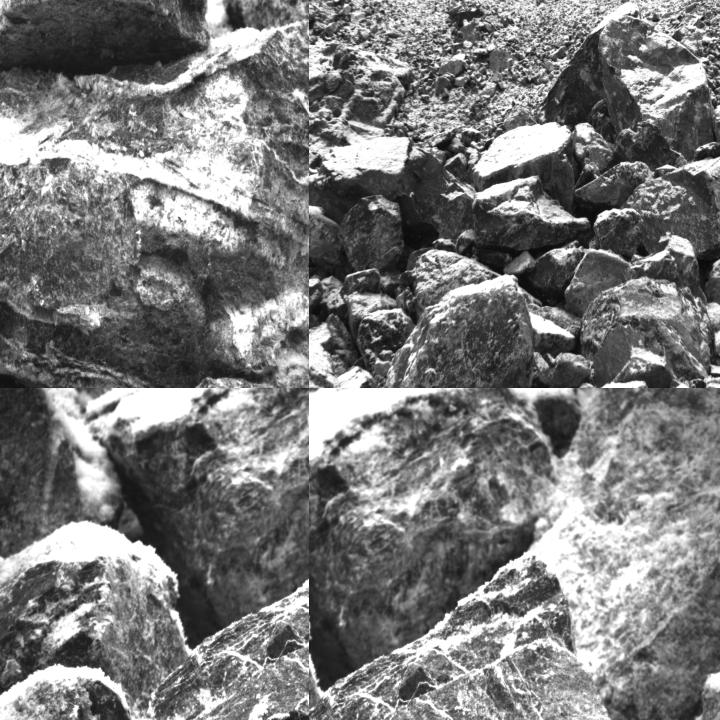stone: (0, 17, 308, 387), (309, 388, 581, 671), (309, 551, 656, 719), (80, 388, 308, 629), (195, 0, 308, 355), (0, 519, 186, 719), (147, 509, 308, 719), (376, 276, 537, 387), (309, 135, 472, 242), (598, 17, 716, 164), (577, 276, 714, 374), (472, 178, 591, 253), (473, 118, 574, 203), (636, 157, 719, 258), (535, 18, 612, 126), (341, 196, 404, 270), (564, 248, 636, 310), (529, 241, 588, 302), (361, 310, 414, 376), (615, 118, 677, 171), (576, 162, 656, 203), (309, 329, 358, 387), (309, 206, 345, 271), (591, 207, 640, 254), (571, 121, 617, 168), (529, 311, 575, 355), (548, 353, 593, 387), (704, 252, 719, 307), (592, 379, 650, 387)
